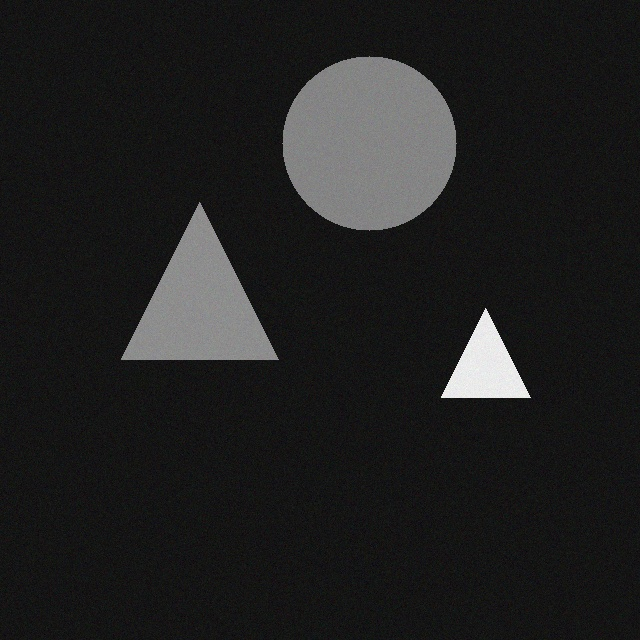circle: (277, 67, 451, 241)
triangle: (116, 213, 273, 370), (436, 319, 525, 408)
